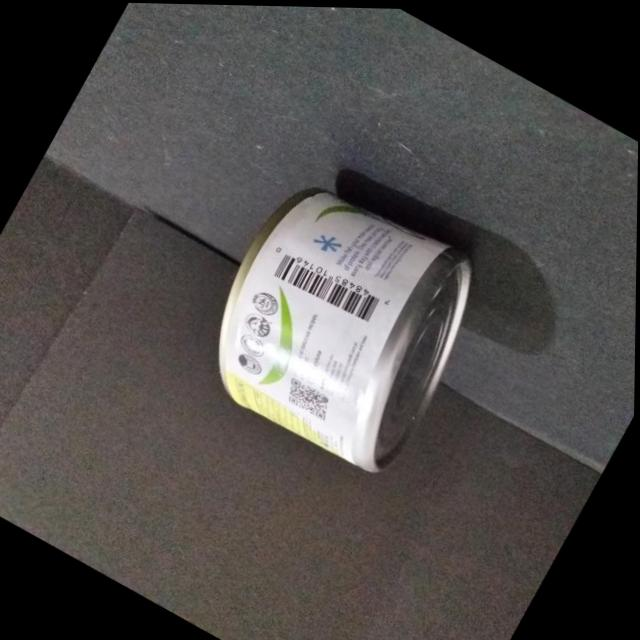metal: (179, 154, 509, 493)
